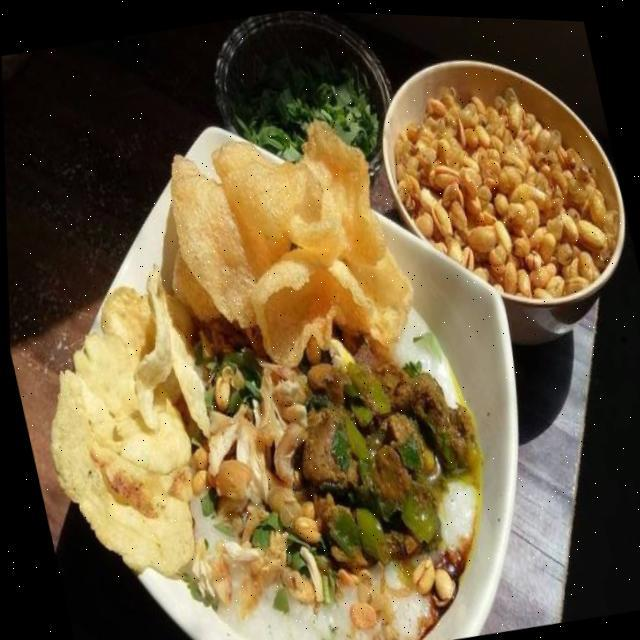bubur ayam: (65, 95, 521, 640)
mangkuk: (2, 74, 575, 640), (362, 28, 640, 370), (200, 8, 420, 244)
